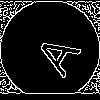A: (25, 25, 82, 78)
